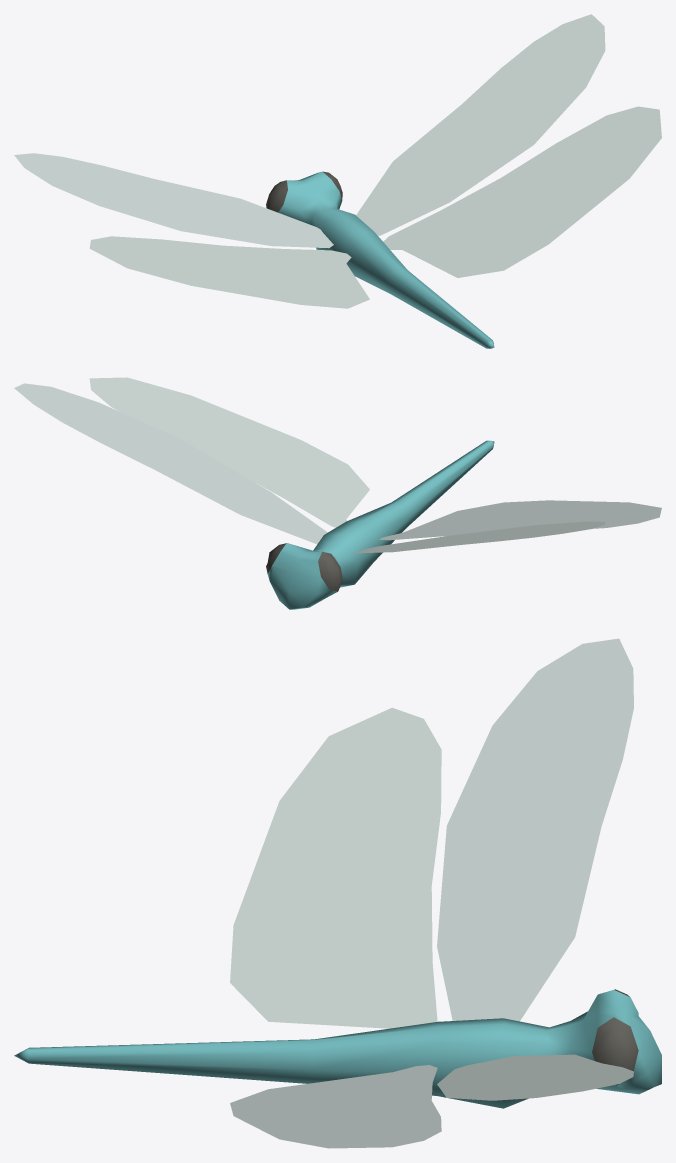
Rendered from itch_assetquest_pond_dragonfly_1.glb.
3 renders of one model, top to bottom at view 1: azimuth 30°, elevation 25°; view 2: azimuth 150°, elevation 25°; view 3: azimuth 270°, elevation 25°, orthographic. The views are drawn at different scales.
Visible parts, largest first — view 1: Dragonfly_1; view 2: Dragonfly_1; view 3: Dragonfly_1.
Boxes of the visible parts, x1,y1,x2,y2 form: Dragonfly_1: [14, 14, 661, 348]; Dragonfly_1: [14, 377, 661, 609]; Dragonfly_1: [14, 638, 661, 1148].
Bounding box in the file's own units: 0.42 × 0.1079 × 0.257.
